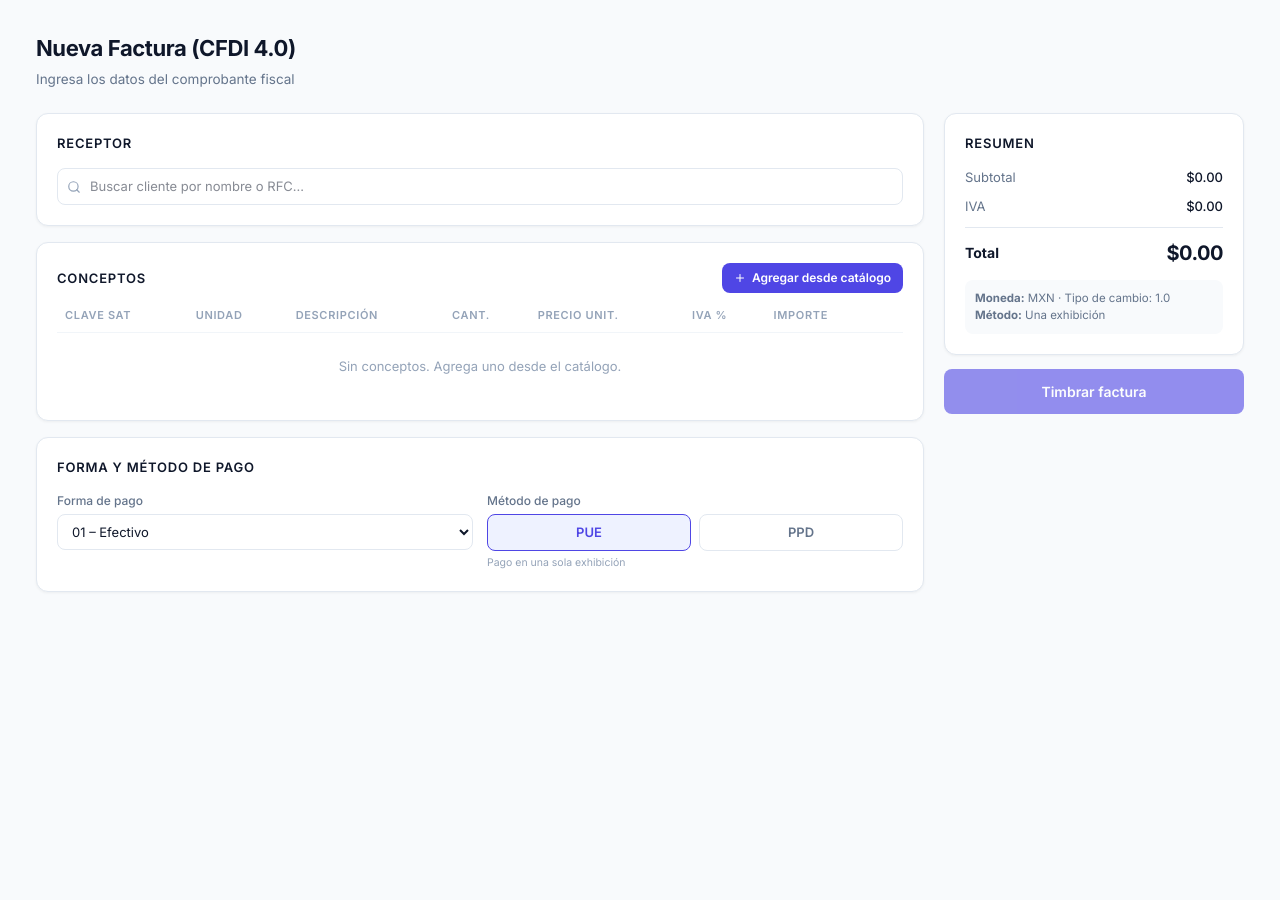
it: NuevaFactura - conceptos desde catálogo › muestra el error de timbrado y el folio cuando la factura queda pendiente
The image size is (1280, 900).
Step 1. Type "Cliente" into the field with placeholder "Buscar cliente por nombre o RFC..." → (480,187), box top-left (57, 168), bottom-right (903, 205)
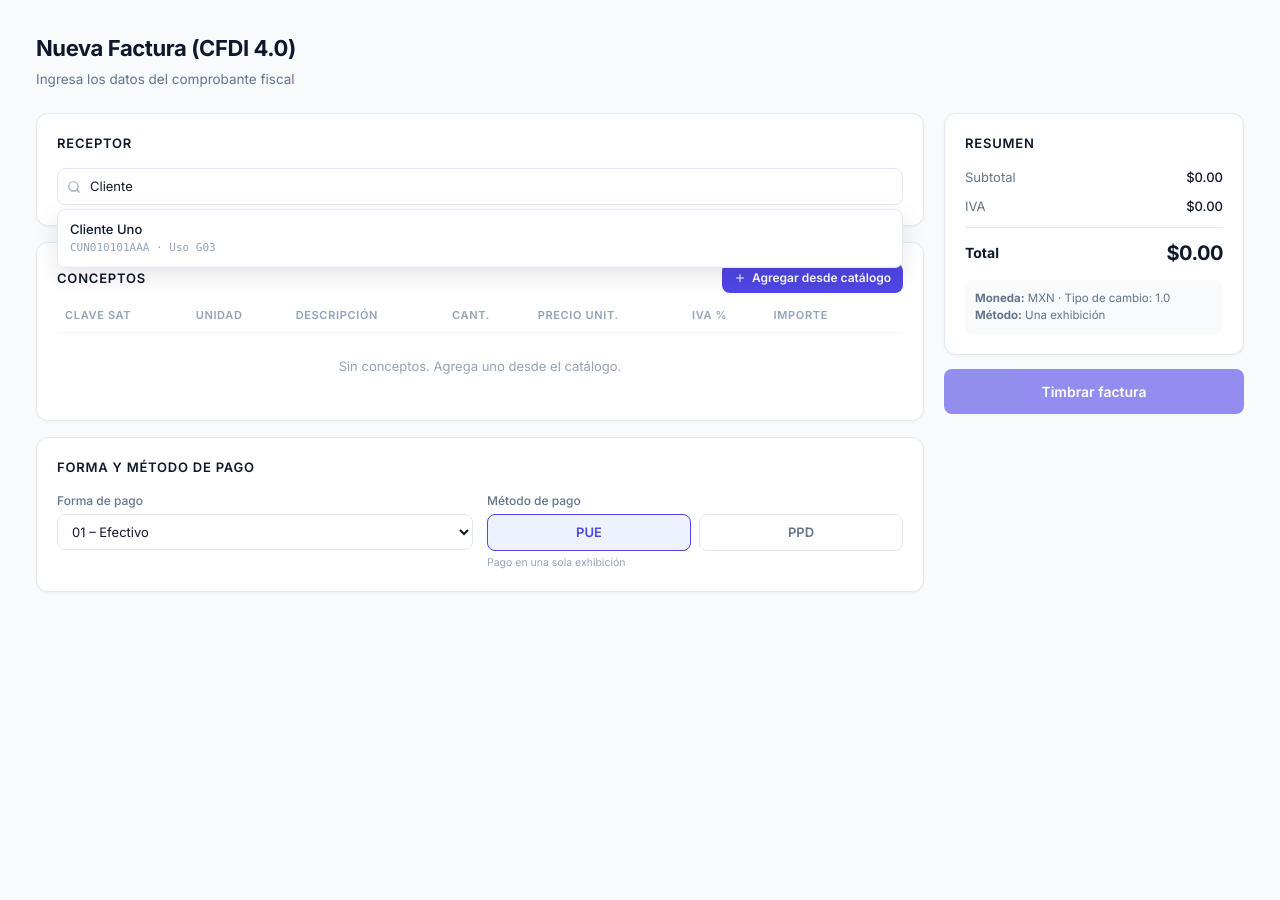
Step 2. Click the text "Cliente Uno" → (106,229), box top-left (70, 221), bottom-right (142, 237)
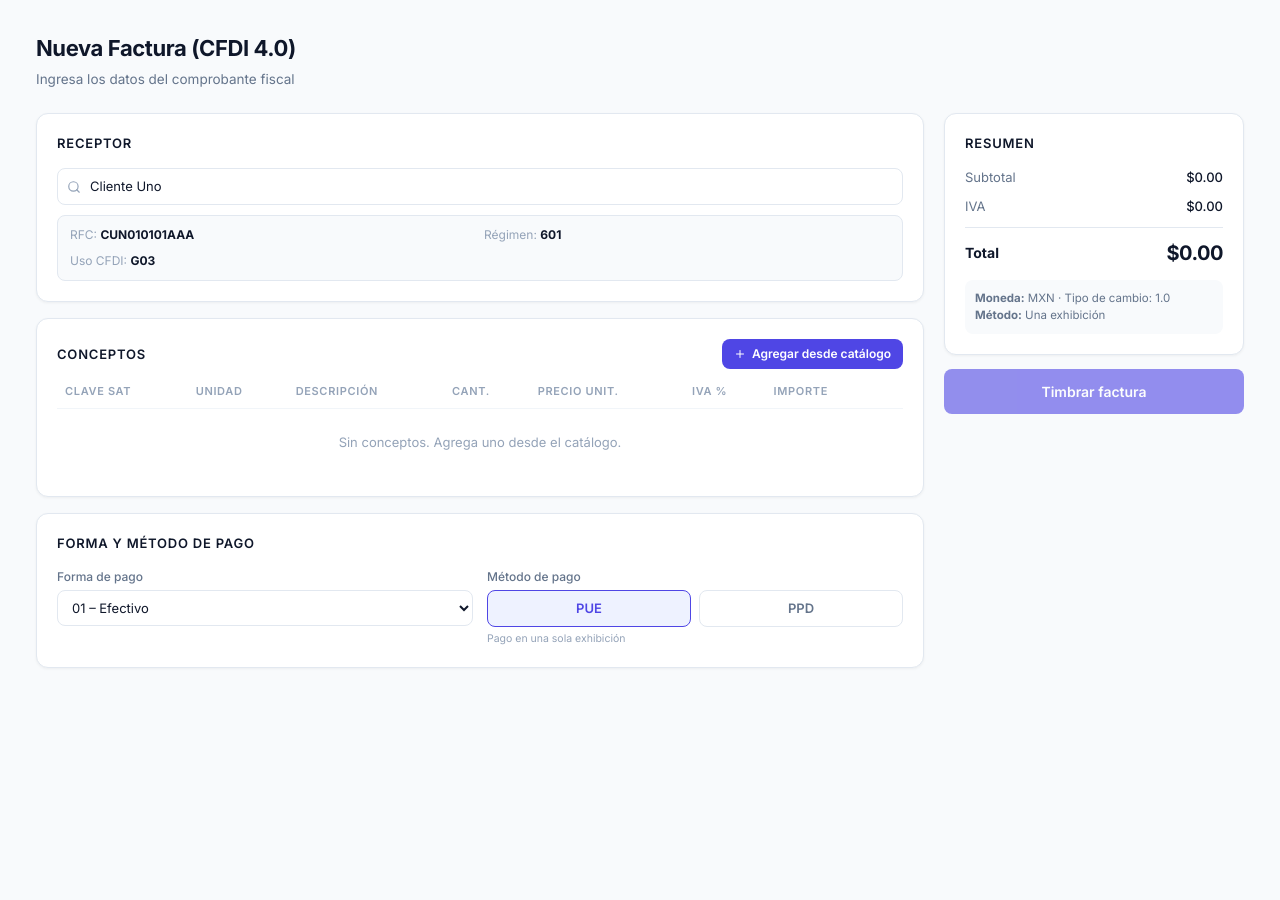
Step 3. Click the button "Agregar desde catálogo" → (812,354), box top-left (722, 339), bottom-right (903, 369)
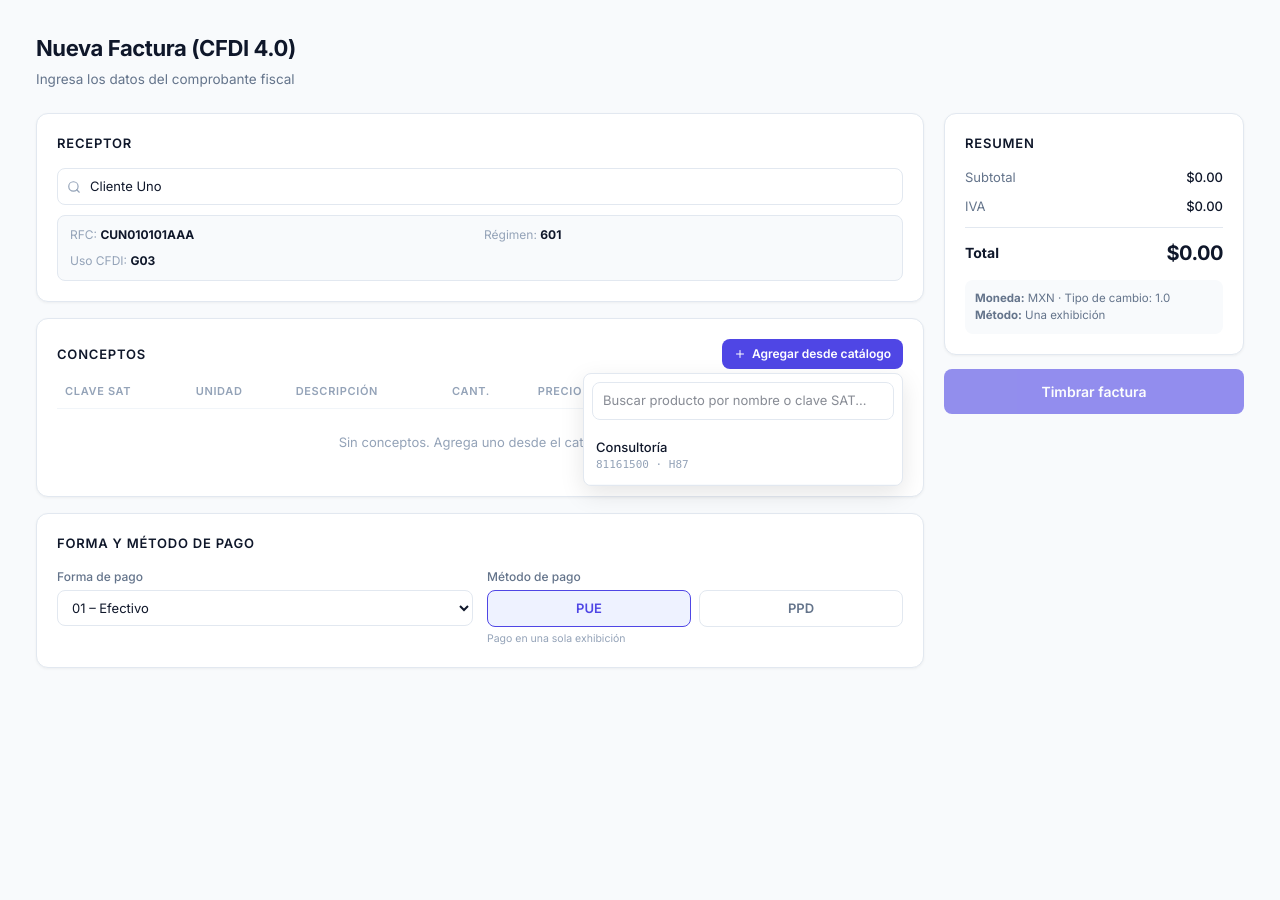
Step 4. Click the text "Consultoría" → (632,447), box top-left (596, 439), bottom-right (667, 455)
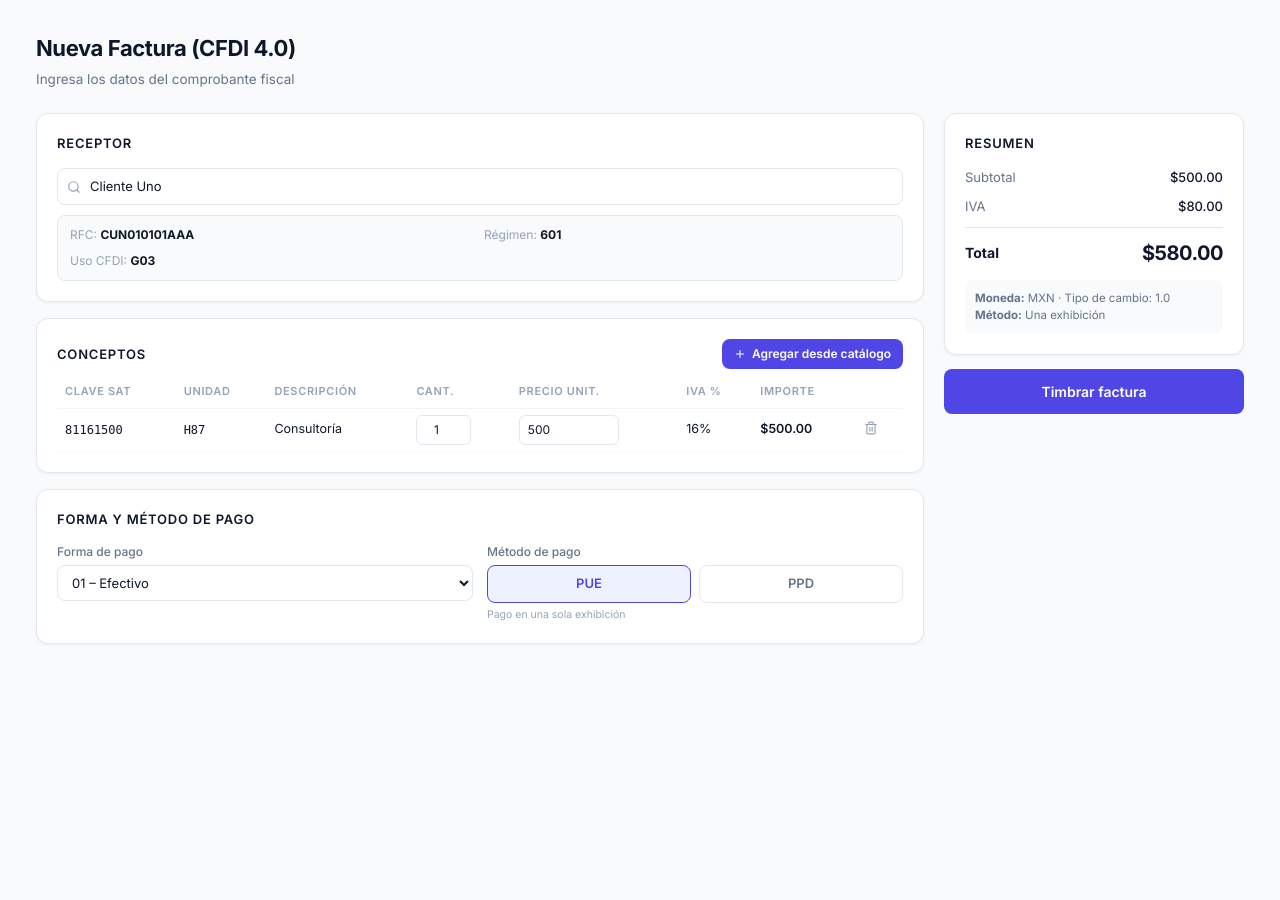
Step 5. Click the button "Timbrar factura" → (1094,392), box top-left (944, 369), bottom-right (1244, 414)
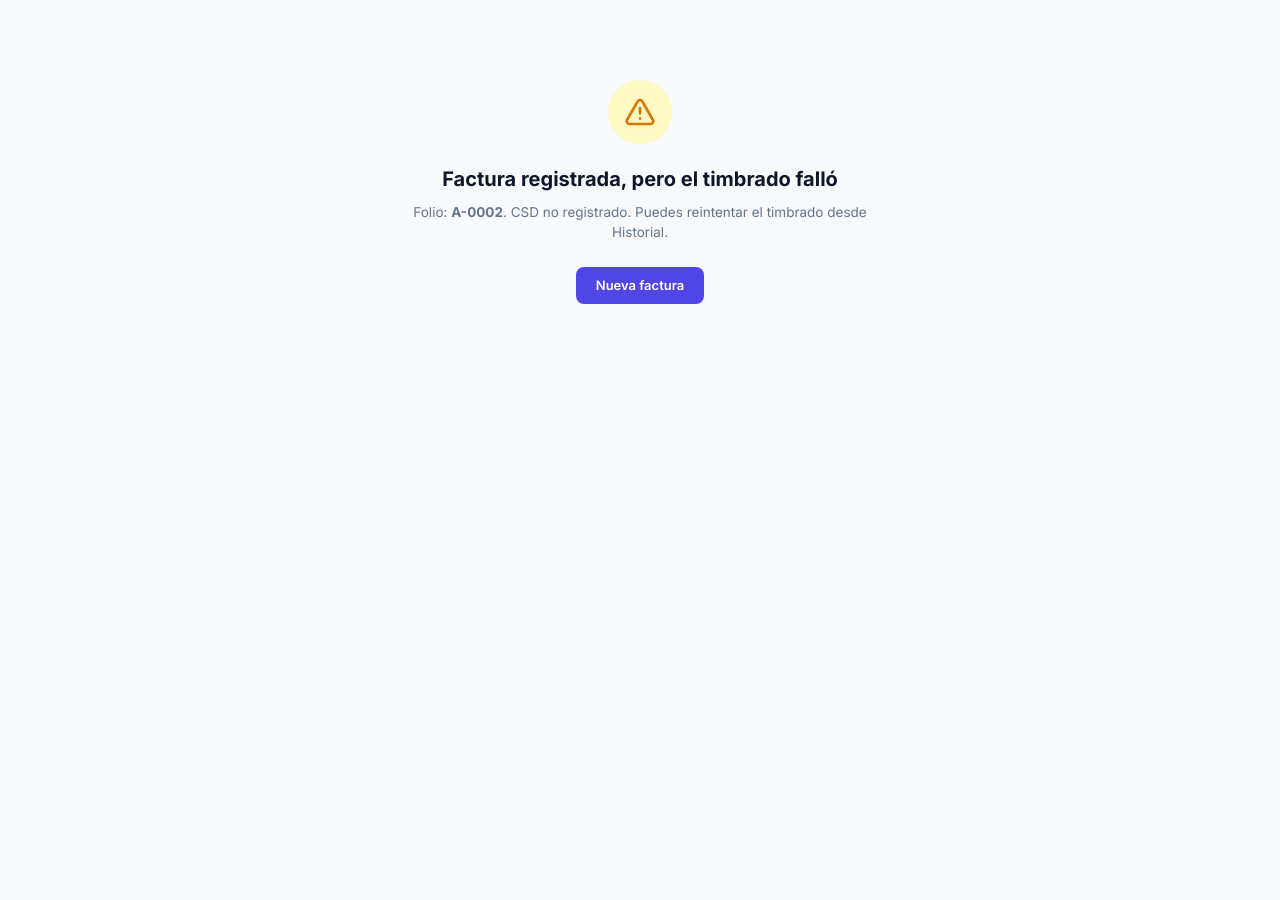
Now the text "A-0002" is shown, box top-left (451, 204), bottom-right (503, 220)
Now the text "CSD no registrado" is shown, box top-left (511, 204), bottom-right (628, 220)
